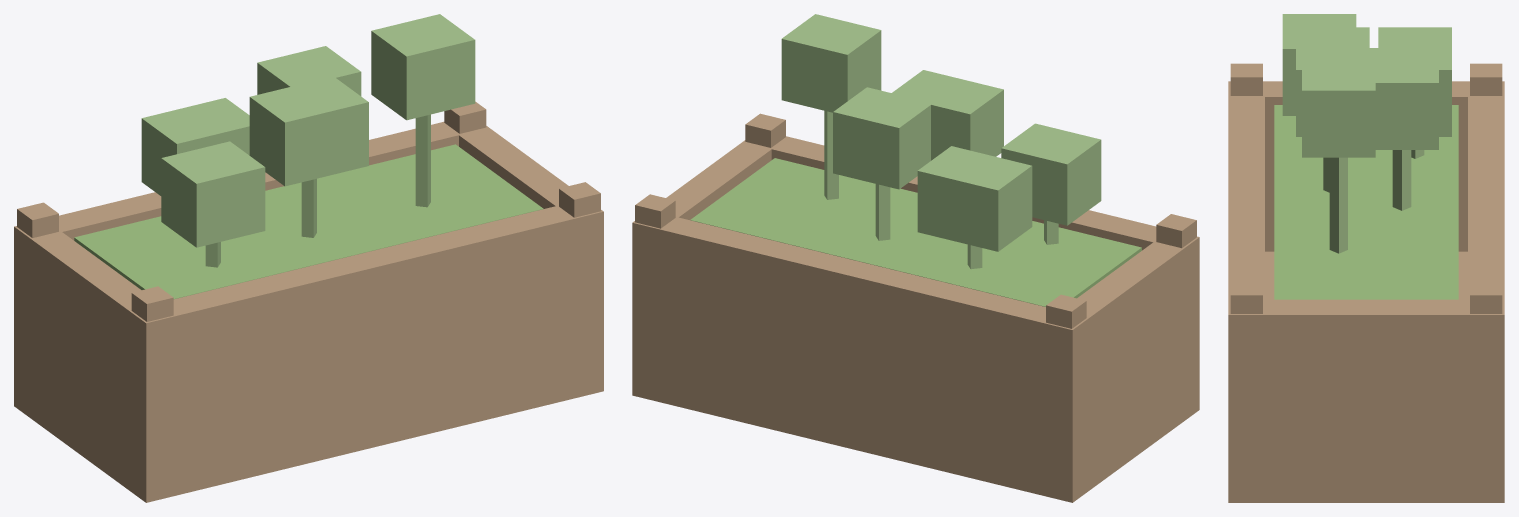
Rendered from SM_Planter_A.fbx.
3 renders of one model, left to right at view 1: azimuth 30°, elevation 25°; view 2: azimuth 150°, elevation 25°; view 3: azimuth 270°, elevation 25°, orthographic. The views are drawn at different scales.
Parts seen in each view (by area): view 1: SM_Planter_A; view 2: SM_Planter_A; view 3: SM_Planter_A.
Boxes of the visible parts, left/top/right/bottom form: SM_Planter_A: left=14, top=14, right=603, bottom=502; SM_Planter_A: left=632, top=14, right=1199, bottom=502; SM_Planter_A: left=1228, top=14, right=1504, bottom=502.
Size of the model in its own units: 0.6 by 1.2 by 0.873.
